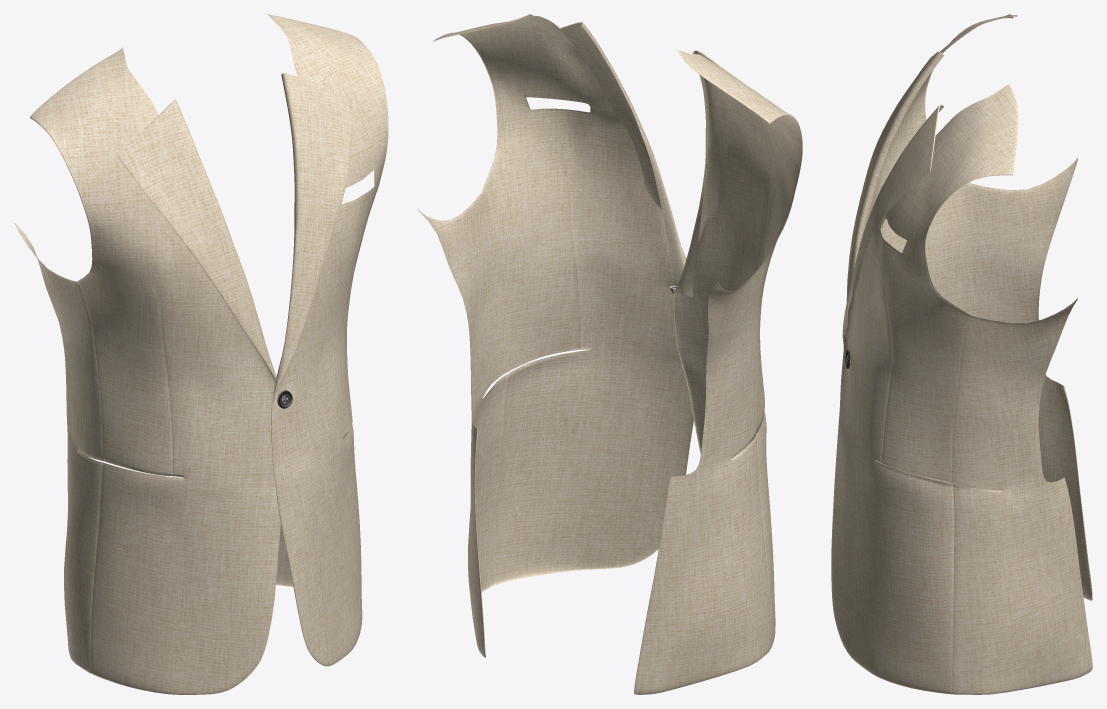
Rendered from single.glb.
The picture shows the model from 3 angles, left to right: view 1: azimuth 30°, elevation 25°; view 2: azimuth 150°, elevation 25°; view 3: azimuth 270°, elevation 25°; orthographic projection. The views are drawn at different scales.
Visible parts, largest first — view 1: notch_single_button; view 2: notch_single_button; view 3: notch_single_button.
Boxes of the visible parts, x1,y1,x2,y2 form: notch_single_button: (15,14,388,694); notch_single_button: (417,14,802,694); notch_single_button: (831,14,1092,694).
Size of the model in its own units: 0.0585 by 0.102 by 0.0411.
Materials: 4 (3 with a texture image).
